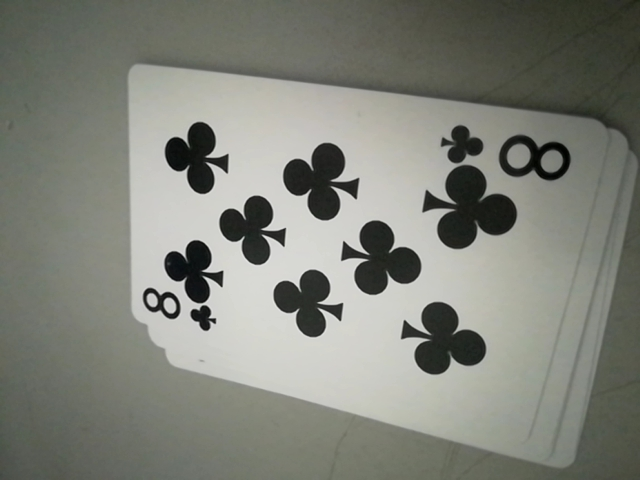mh 8: (436, 121, 576, 180), (135, 286, 218, 335)
